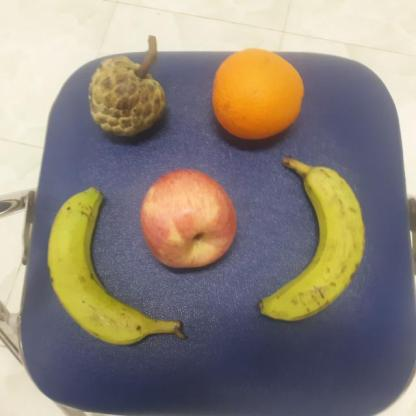annona: (86, 53, 170, 143)
apple: (139, 167, 237, 274)
banana: (47, 186, 185, 347), (258, 157, 371, 322)
orange: (210, 46, 306, 144)
